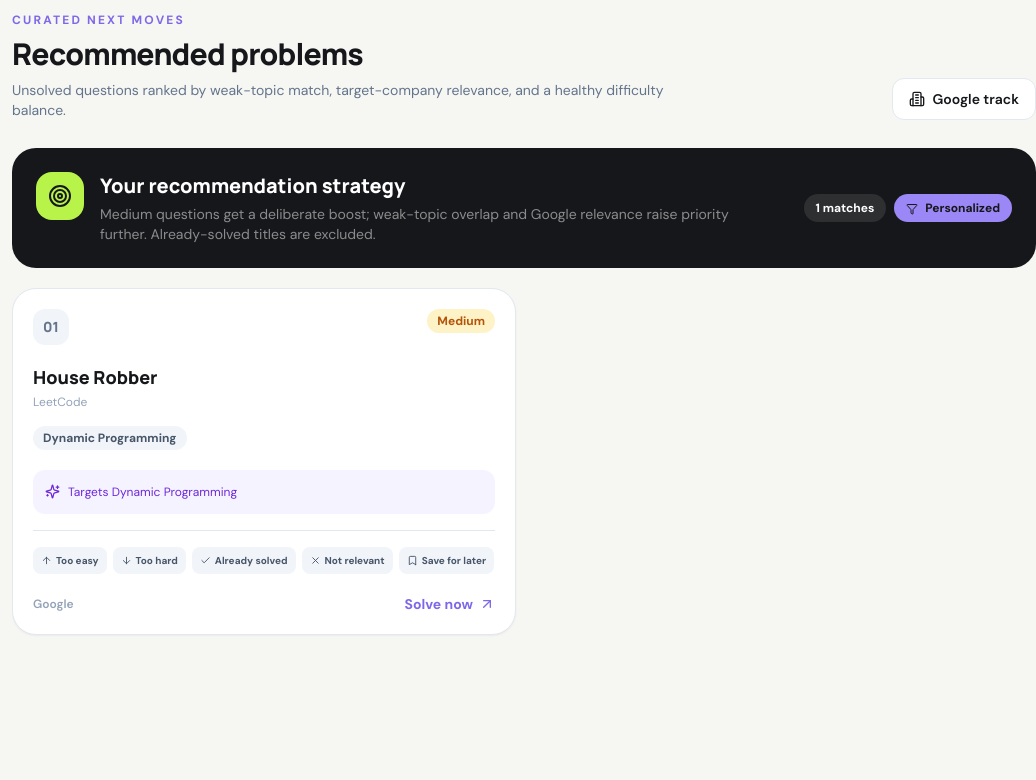
Test: RecommendationsPage feedback › shows API feedback errors without crashing
Click the button "Not relevant" at (347, 560), box [302,547,393,574]
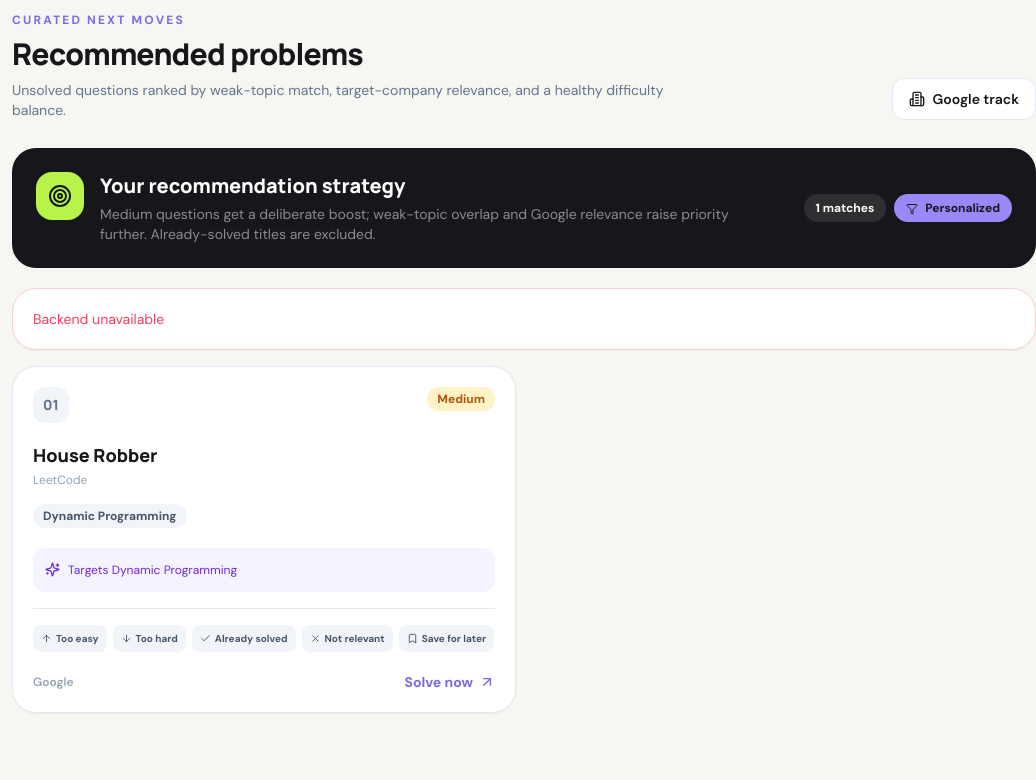
Expected: the text "Backend unavailable" is shown, [12,288,1035,350]
